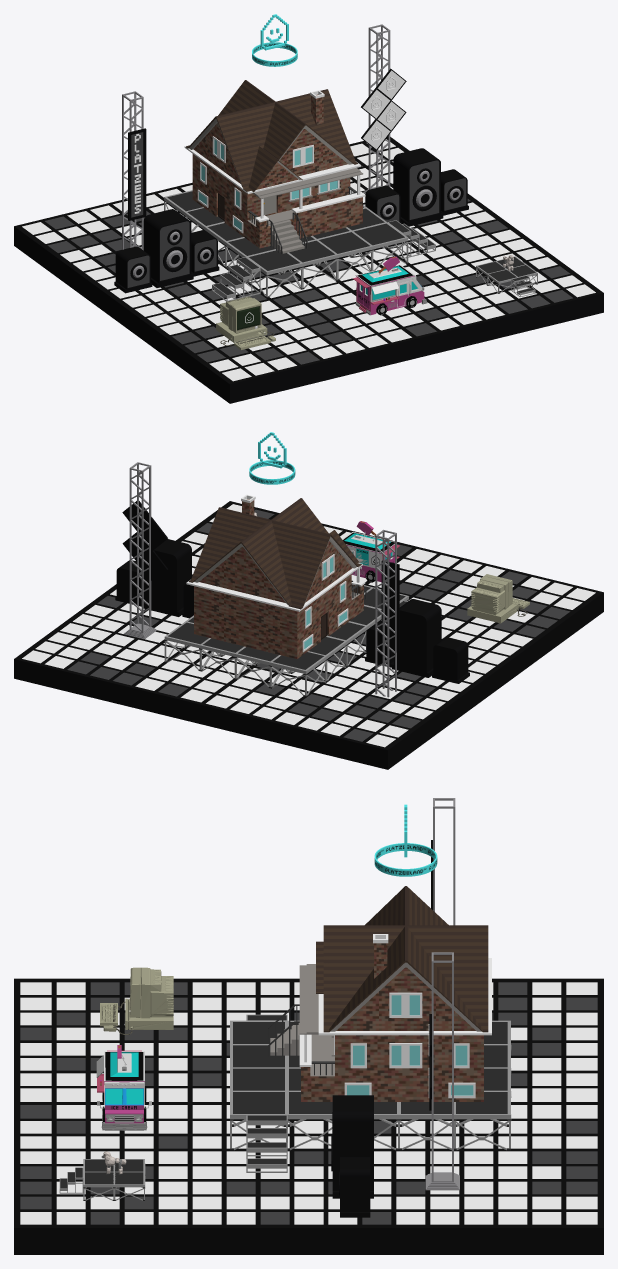
3 renders of one model, top to bottom at view 1: azimuth 30°, elevation 25°; view 2: azimuth 150°, elevation 25°; view 3: azimuth 270°, elevation 25°, orthographic. The views are drawn at different scales.
Visible parts, largest first — view 1: Cube.008, Cube.117, VEHICLES_ICE_CREAM_TRUCK, OBJRANDOM_RETRO_PC, TYPE_PREMIUM; view 2: Cube.008, Cube.117, OBJRANDOM_RETRO_PC, VEHICLES_ICE_CREAM_TRUCK, TYPE_PREMIUM; view 3: Cube.008, Cube.117, VEHICLES_ICE_CREAM_TRUCK, OBJRANDOM_RETRO_PC, TYPE_PREMIUM.
Part boxes in pixels (left/top/right/bottom): Cube.008: left=14, top=24, right=603, bottom=403; Cube.117: left=184, top=80, right=365, bottom=254; VEHICLES_ICE_CREAM_TRUCK: left=353, top=256, right=427, bottom=315; OBJRANDOM_RETRO_PC: left=216, top=296, right=275, bottom=349; TYPE_PREMIUM: left=252, top=14, right=297, bottom=66; Cube.008: left=14, top=462, right=603, bottom=769; Cube.117: left=186, top=494, right=366, bottom=658; OBJRANDOM_RETRO_PC: left=467, top=574, right=529, bottom=623; VEHICLES_ICE_CREAM_TRUCK: left=342, top=521, right=399, bottom=582; TYPE_PREMIUM: left=249, top=432, right=295, bottom=484; Cube.008: left=14, top=798, right=603, bottom=1254; Cube.117: left=268, top=886, right=491, bottom=1101; VEHICLES_ICE_CREAM_TRUCK: left=96, top=1045, right=151, bottom=1130; OBJRANDOM_RETRO_PC: left=100, top=967, right=173, bottom=1034; TYPE_PREMIUM: left=374, top=804, right=437, bottom=876.
Size of the model in its own units: 4000 by 2489 by 4000.
49 materials, 3 textured.
